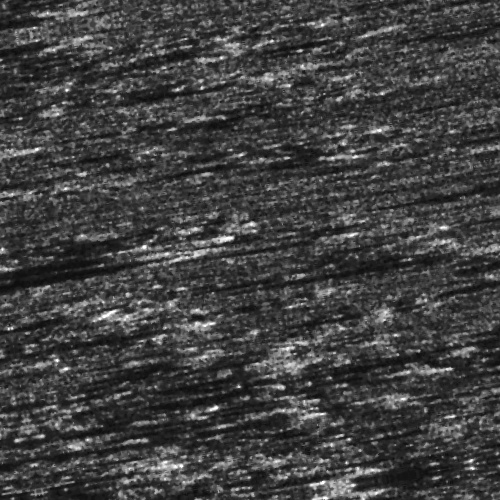object: (424, 274, 500, 301), (359, 373, 494, 388), (213, 415, 358, 428), (60, 4, 165, 15), (130, 237, 235, 246), (10, 105, 63, 116), (293, 246, 366, 251), (87, 445, 160, 450), (157, 310, 220, 315), (167, 226, 198, 233), (216, 384, 247, 389)
shadow: (267, 274, 487, 301), (62, 415, 285, 428), (270, 373, 426, 388), (0, 237, 183, 246), (0, 4, 112, 15), (407, 224, 500, 233), (27, 310, 188, 315), (104, 384, 231, 389), (212, 246, 329, 251), (437, 419, 500, 428), (28, 445, 123, 450), (0, 105, 37, 116), (461, 300, 500, 309), (431, 407, 500, 412), (141, 226, 183, 233), (452, 175, 500, 180), (479, 256, 500, 263), (482, 435, 500, 442)
